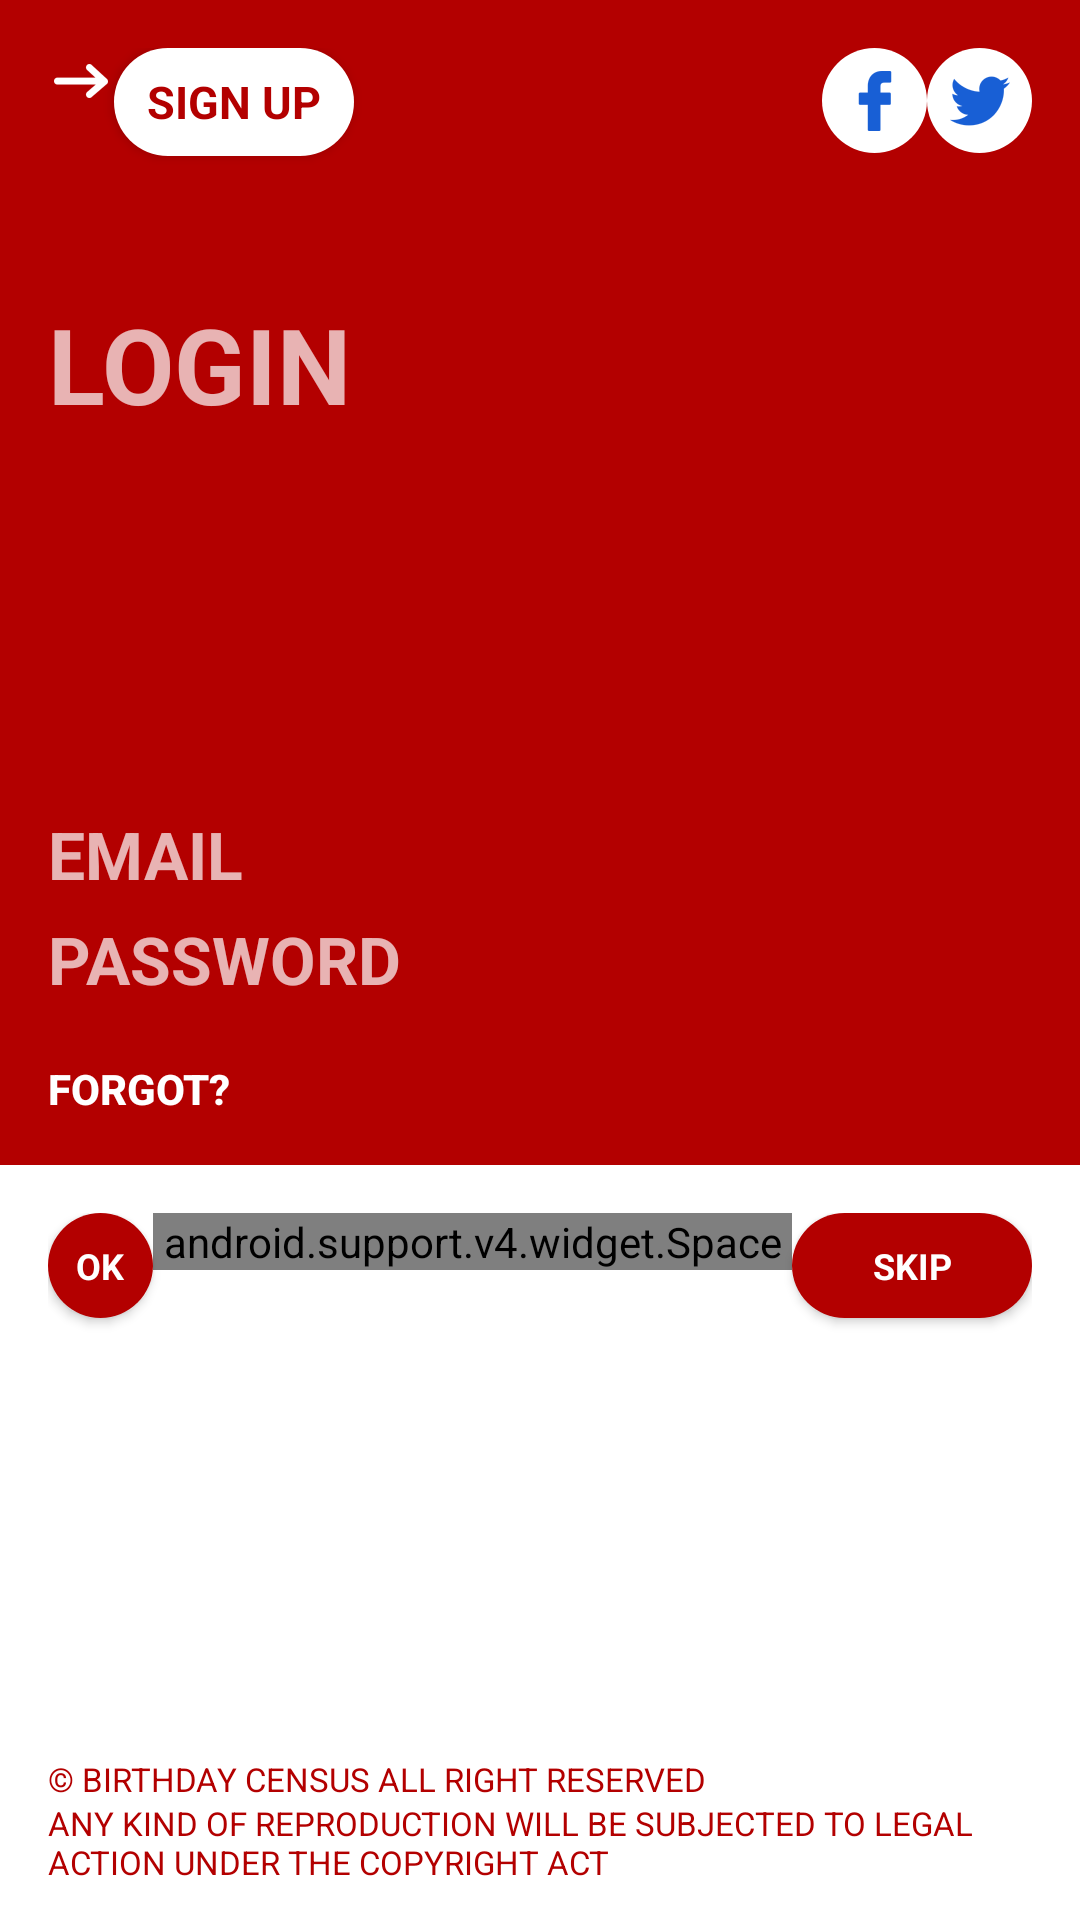

Point at icon controls on the screen. Image size 1080x1920, points as (x=x, y=y).
arrow right: (x=81, y=81)
